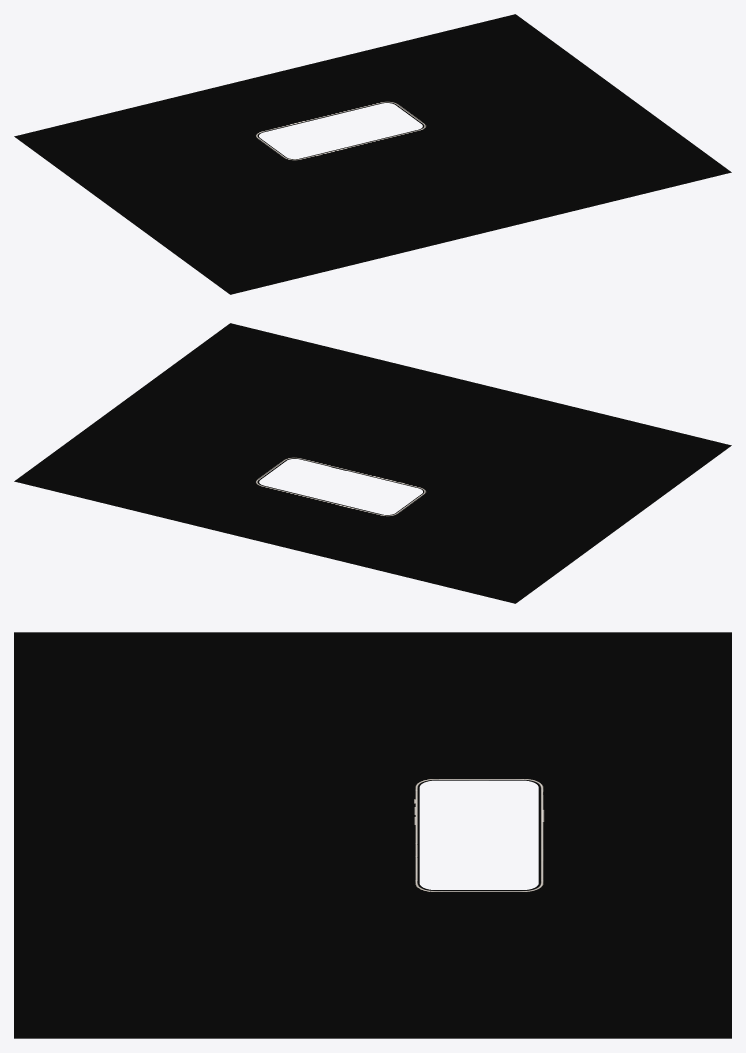
The model's file is deviceMoled.glb.
3 views of the same model, one above another, from view 1: azimuth 30°, elevation 25°; view 2: azimuth 150°, elevation 25°; view 3: azimuth 270°, elevation 25° (orthographic). The views are drawn at different scales.
Visible parts, largest first — view 1: moble; view 2: moble; view 3: moble.
Part boxes in pixels (x1,y1,x2,y2): moble: [14, 14, 731, 294]; moble: [14, 323, 731, 603]; moble: [14, 632, 731, 1038].
Bounding box in the file's own units: 38.89 × 0.0203 × 29.05.
Materials: 1 (1 with a texture image).
